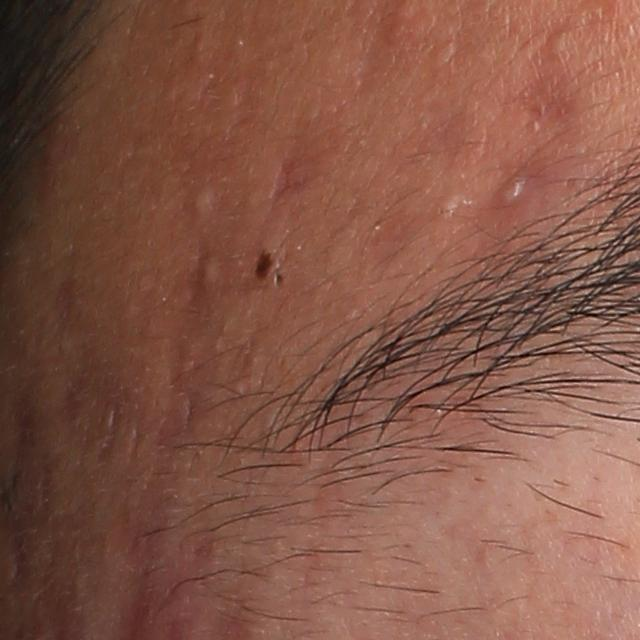comedo: (187, 179, 221, 222), (197, 253, 224, 289), (546, 28, 572, 61), (439, 185, 463, 218)
nevus: (251, 249, 275, 284)
